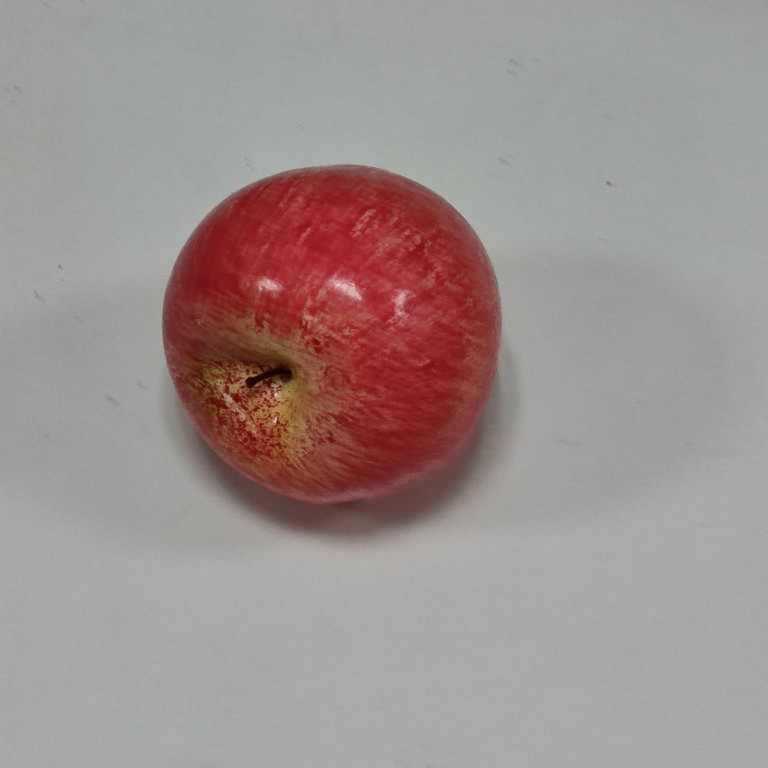fruit_apple: (155, 159, 509, 510)
